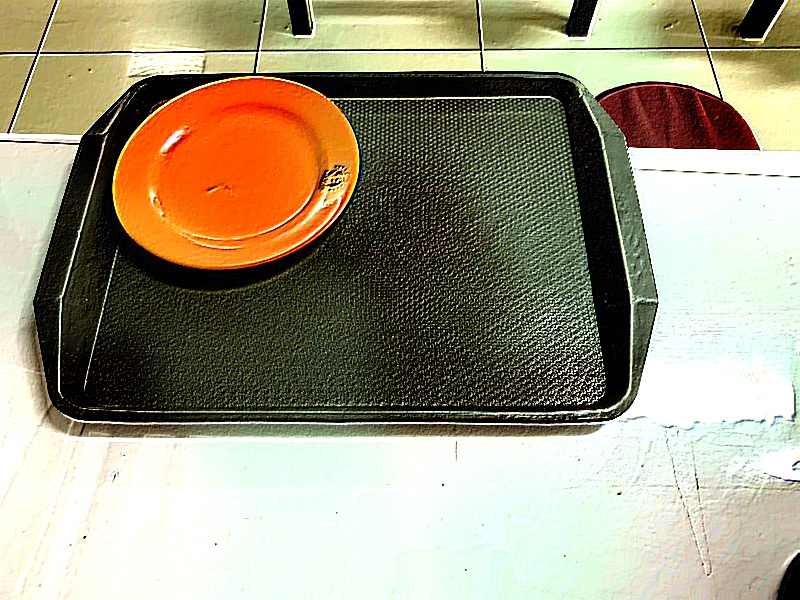dish10: (106, 74, 366, 279)
